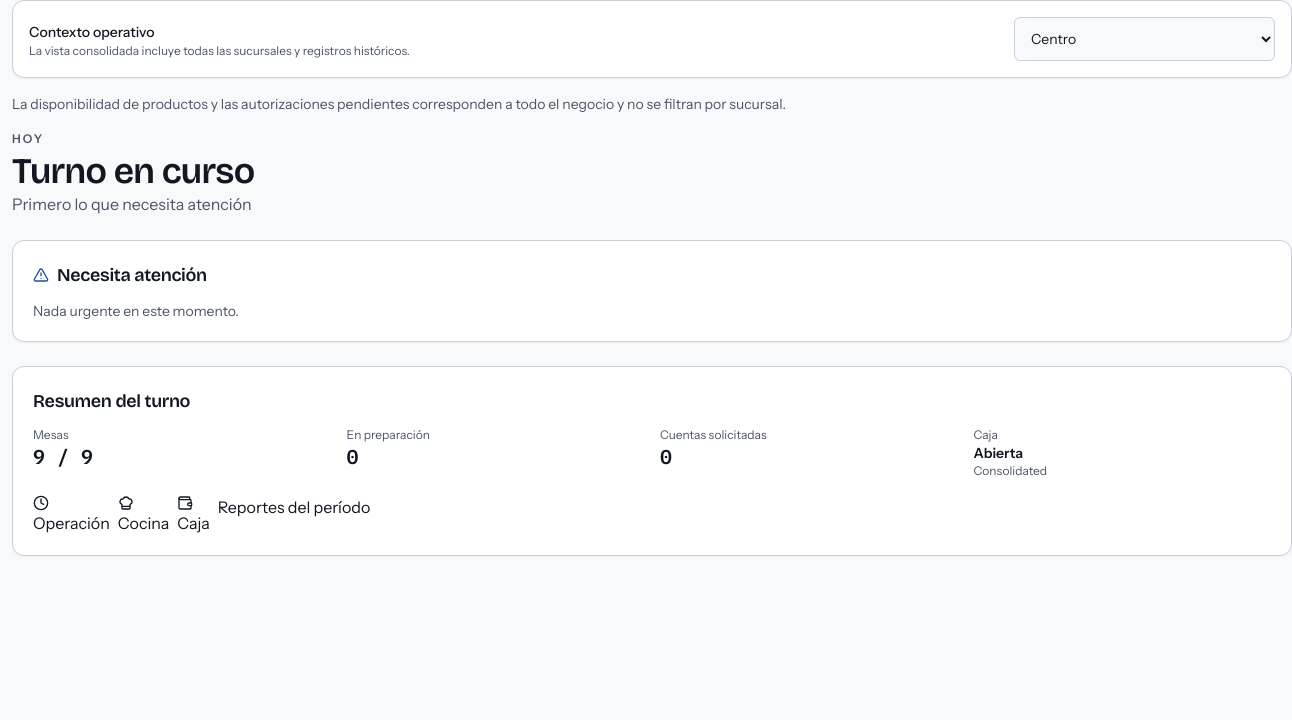
Test: late report response from an old branch cannot replace the selected branch workspace
This screenshot has width=1292, height=720.
Select "Centro" in the dropdown with test id "dashboard-branch-context": (1144, 39) [1014,17,1275,61]
Select "Centro" in the dropdown with test id "dashboard-branch-context": (1144, 39) [1014,17,1275,61]
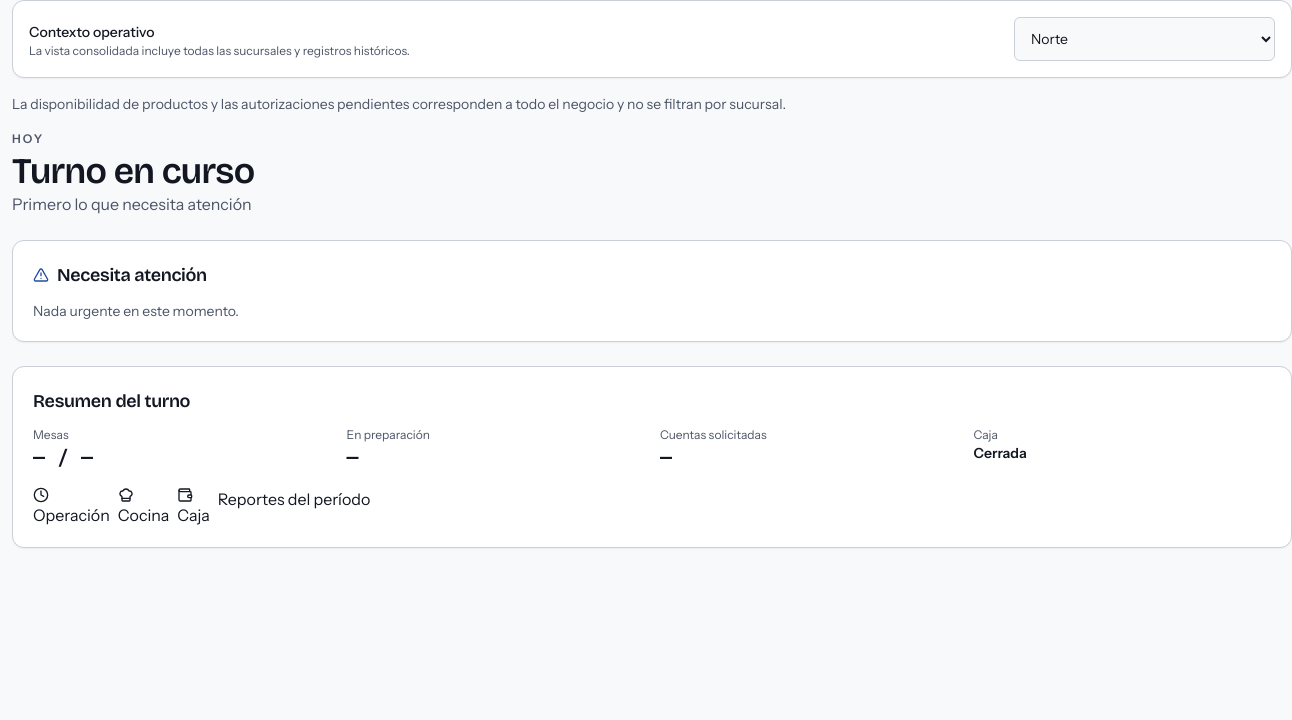
Select "Norte" in the dropdown with test id "dashboard-branch-context": (1144, 39) [1014,17,1275,61]
Select "Norte" in the dropdown with test id "dashboard-branch-context": (1144, 39) [1014,17,1275,61]
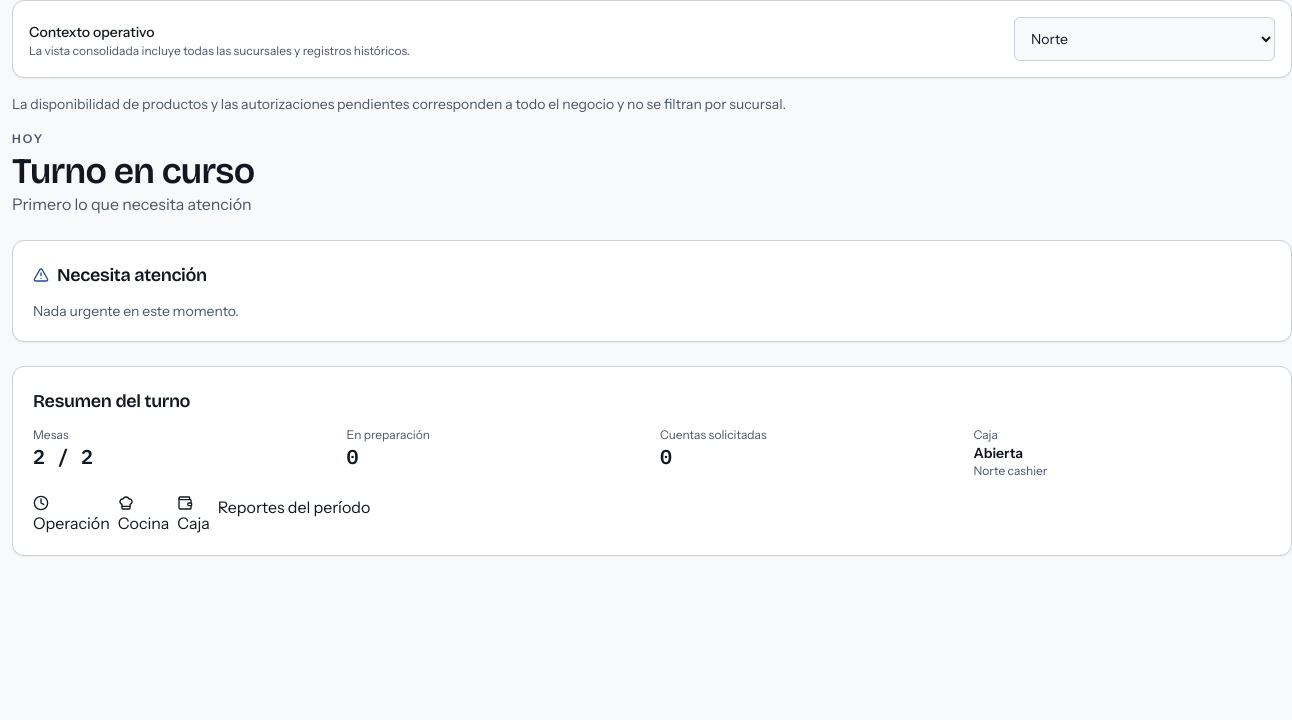
Now the text "2 / 2" is shown, box [33,443,93,470]
Now the text "Norte cashier" is shown, box [974,463,1047,478]
